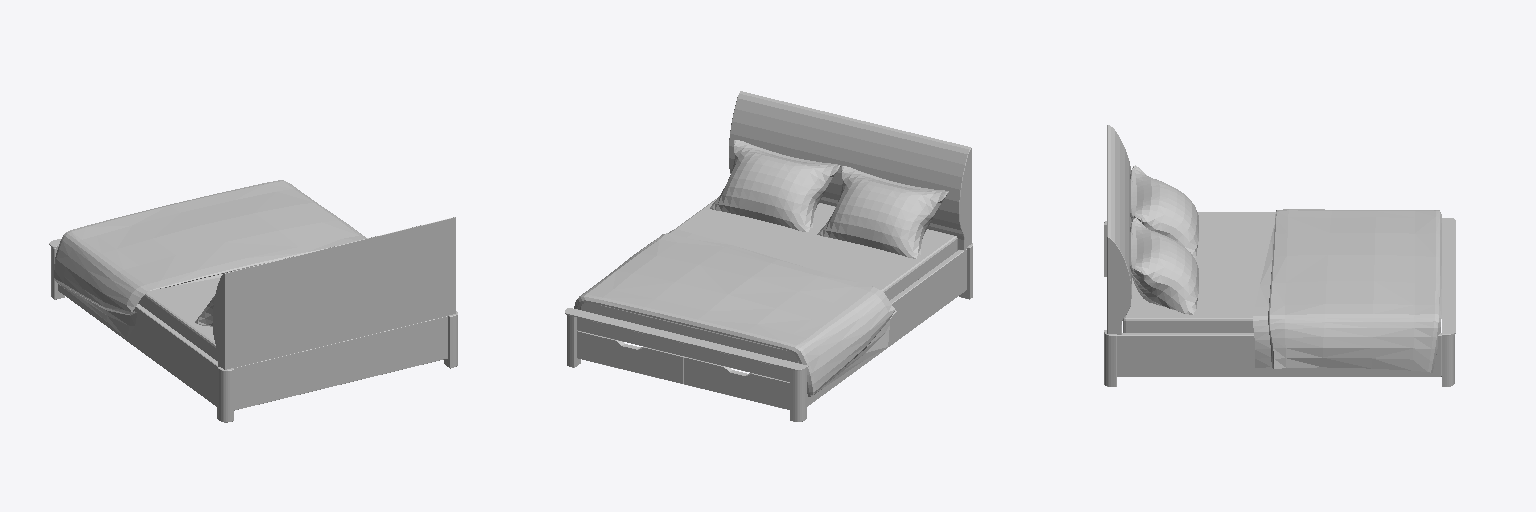
Rendered from bed1.obj.
3 renders of one model, left to right at view 1: azimuth 30°, elevation 25°; view 2: azimuth 150°, elevation 25°; view 3: azimuth 270°, elevation 25°, orthographic.
Visible parts, largest first — view 1: base_Untitled.004, blanket_Untitled.002, mattress_Untitled.003; view 2: base_Untitled.004, blanket_Untitled.002, mattress_Untitled.003, pillow_Untitled, pillow.001_Untitled.001; view 3: blanket_Untitled.002, base_Untitled.004, mattress_Untitled.003, pillow.001_Untitled.001, pillow_Untitled.
Part boxes in pixels (left/top/right/bottom): base_Untitled.004: left=49, top=217, right=457, bottom=422; blanket_Untitled.002: left=54, top=180, right=366, bottom=339; mattress_Untitled.003: left=138, top=277, right=220, bottom=360; base_Untitled.004: left=565, top=91, right=972, bottom=421; blanket_Untitled.002: left=574, top=229, right=896, bottom=396; mattress_Untitled.003: left=580, top=199, right=957, bottom=363; pillow_Untitled: left=817, top=166, right=948, bottom=258; pillow.001_Untitled.001: left=710, top=140, right=840, bottom=232; blanket_Untitled.002: left=1253, top=209, right=1441, bottom=372; base_Untitled.004: left=1104, top=125, right=1455, bottom=386; mattress_Untitled.003: left=1123, top=212, right=1440, bottom=332; pillow.001_Untitled.001: left=1130, top=218, right=1198, bottom=314; pillow_Untitled: left=1130, top=165, right=1198, bottom=257.
Size of the model in its own units: 1.84 by 1.03 by 2.21.